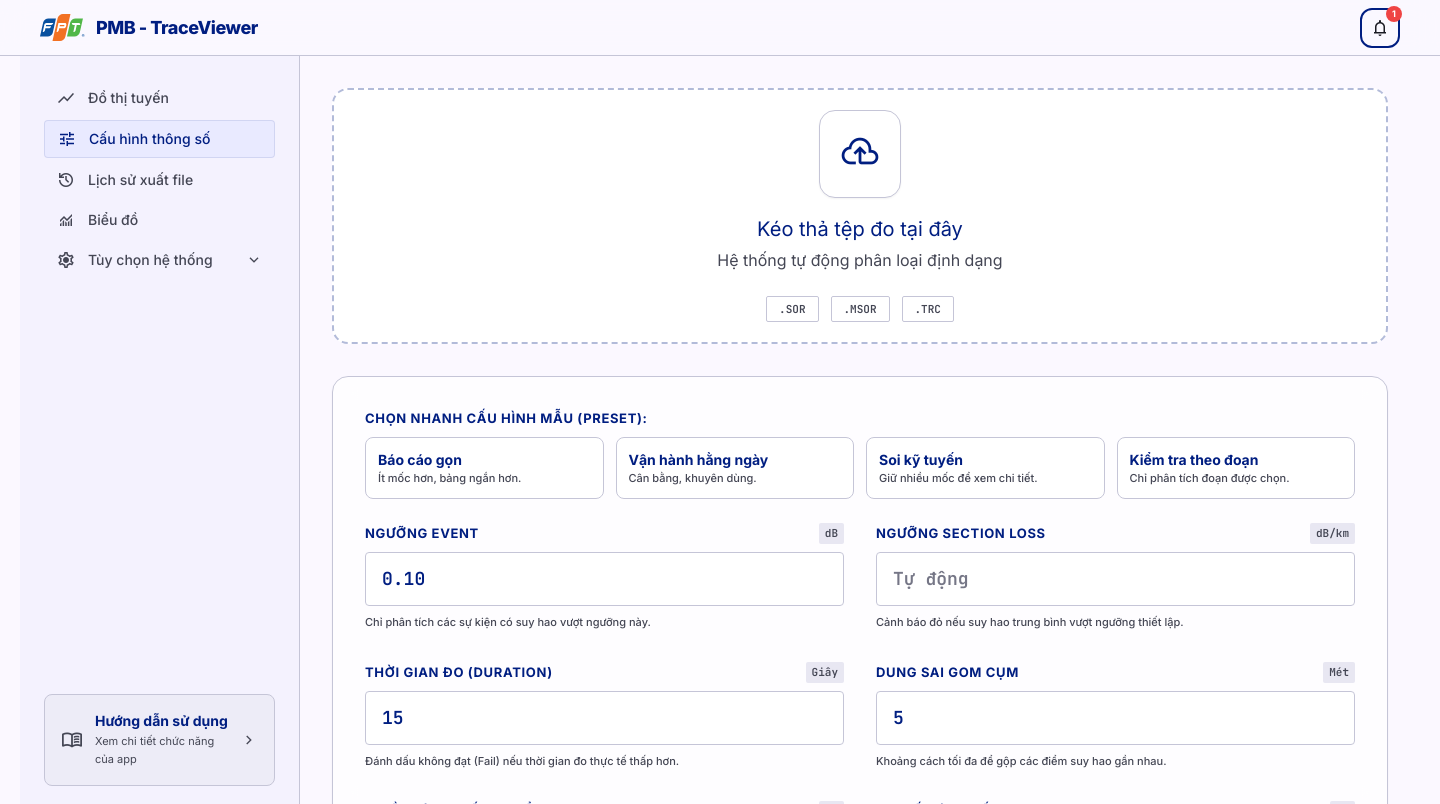
Test case: restores read state and counts only notifications not previously read
The width and height of the screenshot is (1440, 804).
Expected: the text with test id "notification-badge" reads "1", [1392,8,1396,19]
Click the button named "Thông báo": point(1380, 28) [1360,8,1400,48]
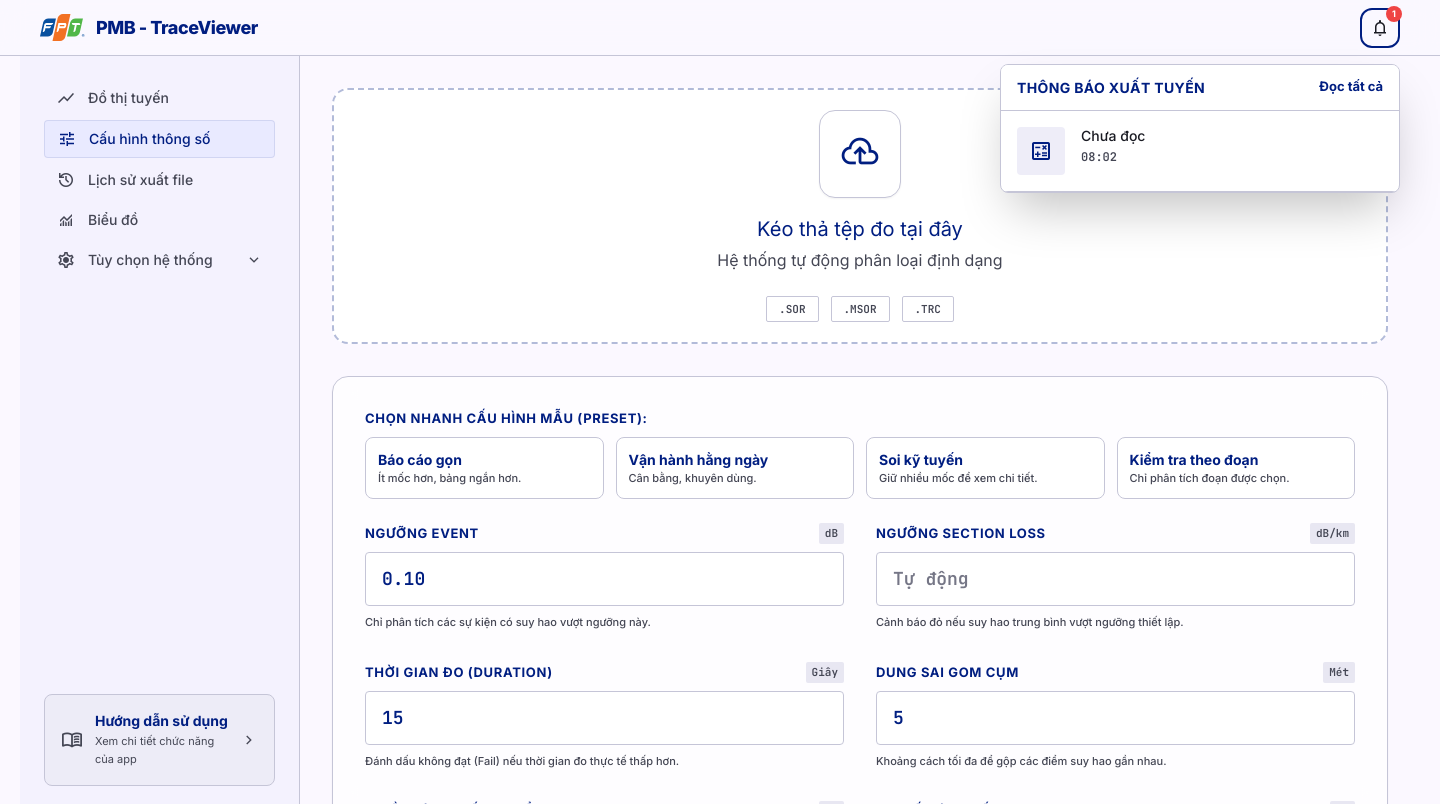
Result: the text "Chưa đọc" is shown at [1081,126,1145,144]
